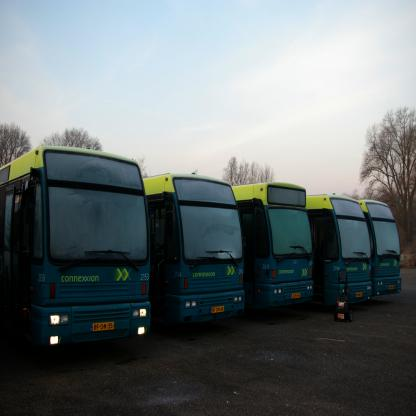Bus: (0, 145, 401, 346)
